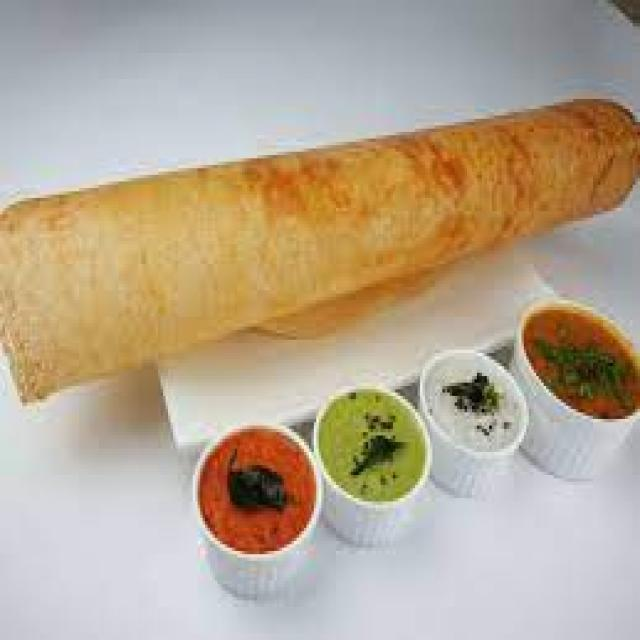chutney: (309, 379, 425, 512), (413, 340, 526, 455)
dosa: (0, 99, 633, 396)
